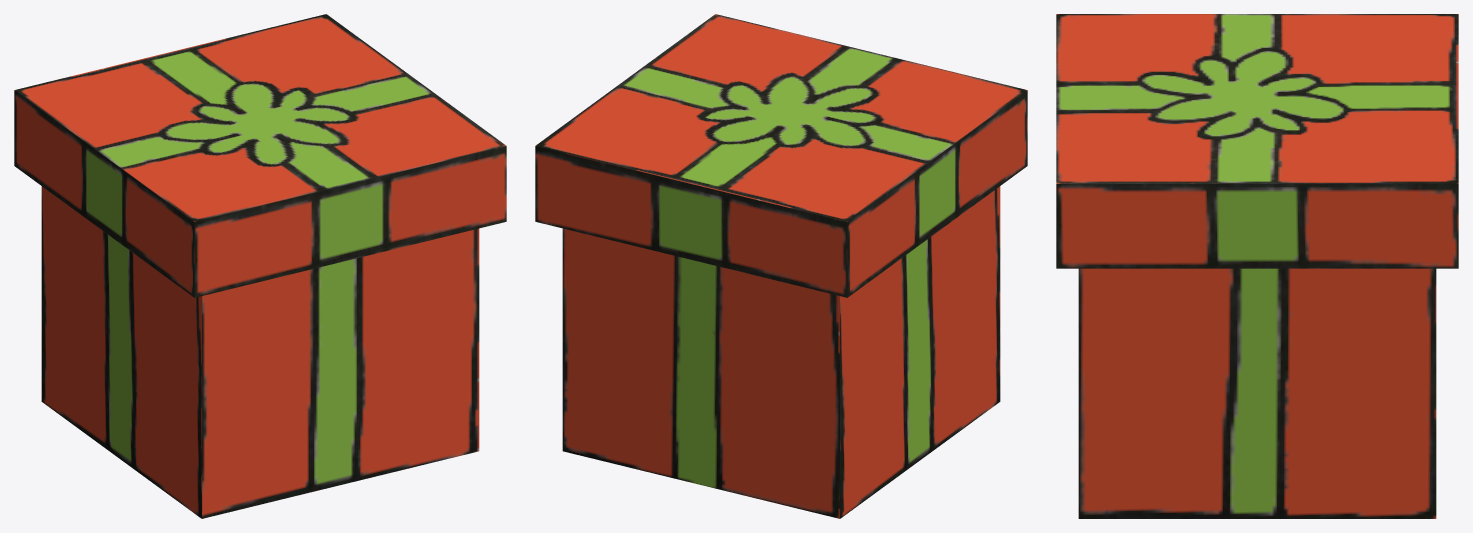
File: Package1.fbx
3 renders of one model, left to right at view 1: azimuth 30°, elevation 25°; view 2: azimuth 150°, elevation 25°; view 3: azimuth 270°, elevation 25°, orthographic. The views are drawn at different scales.
Parts seen in each view (by area): view 1: Package1; view 2: Package1; view 3: Package1.
Boxes of the visible parts, box(x1,y1,x2,y2) form: Package1: box(14, 14, 506, 518); Package1: box(535, 14, 1027, 518); Package1: box(1056, 14, 1458, 518).
Size of the model in its own units: 90 by 85 by 90.
